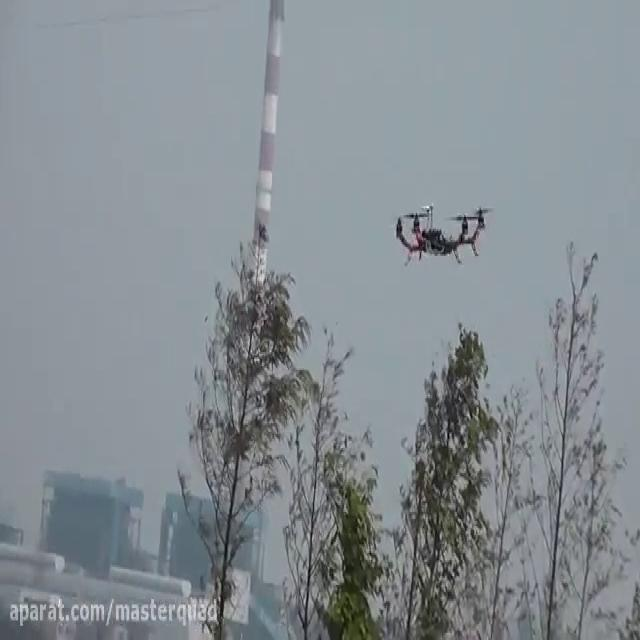drone: (388, 192, 495, 268)
